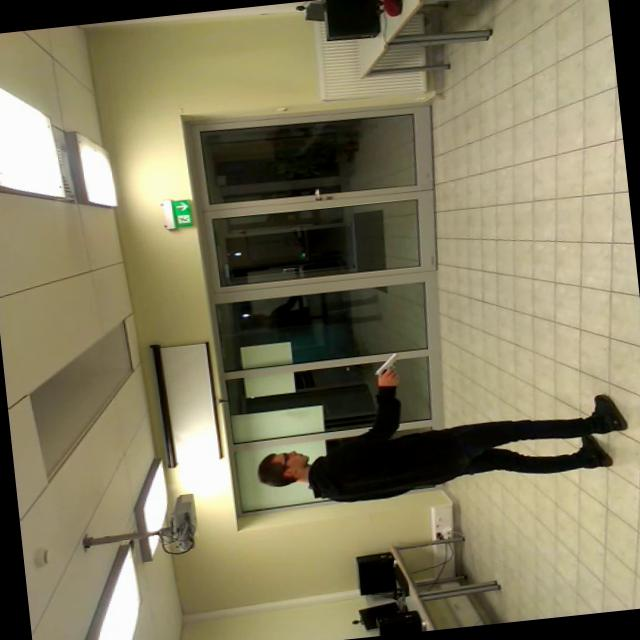handgun: (358, 344, 416, 382)
